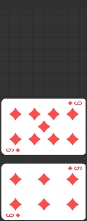9D: (5, 147, 21, 154)
